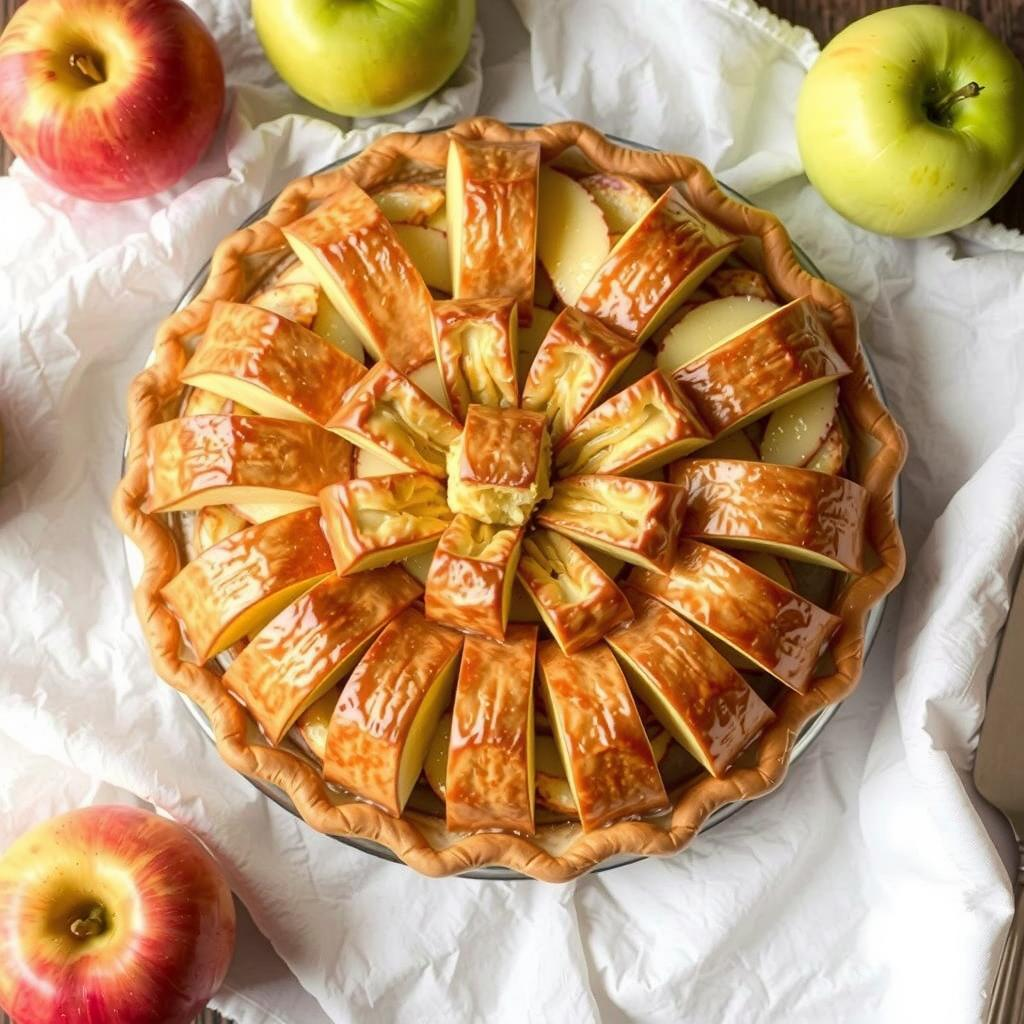pie: (109, 113, 917, 889)
